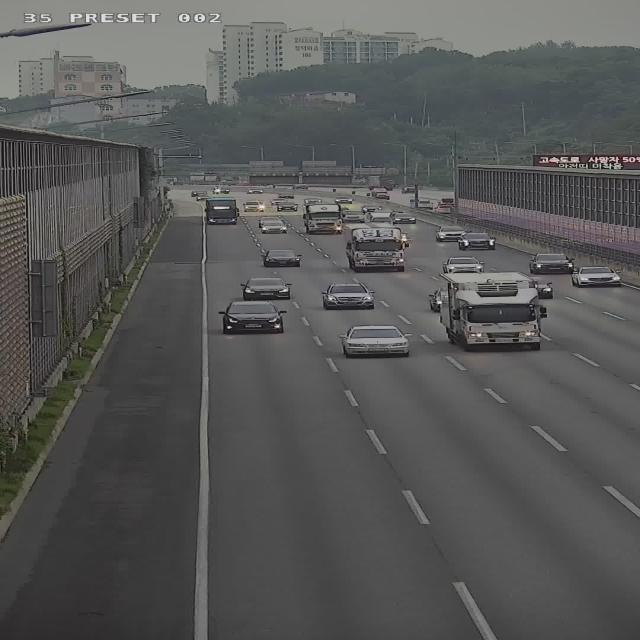Car: (341, 325, 412, 357), (218, 302, 288, 333), (523, 251, 573, 281), (322, 284, 376, 310), (432, 251, 482, 279), (242, 277, 294, 300), (572, 267, 622, 287), (428, 223, 473, 245), (248, 214, 284, 235), (261, 250, 303, 267), (459, 233, 497, 250), (241, 199, 270, 213), (396, 208, 418, 224), (275, 201, 300, 213), (431, 203, 454, 214), (360, 201, 384, 211), (330, 194, 356, 203), (209, 186, 232, 196), (240, 186, 268, 194), (275, 190, 297, 199), (415, 198, 434, 208), (436, 196, 455, 206), (302, 196, 322, 204), (369, 186, 389, 194), (400, 186, 419, 194), (268, 198, 289, 205), (189, 188, 204, 197), (372, 193, 391, 200), (195, 194, 210, 202), (408, 197, 418, 206)
Truck: (440, 273, 541, 350), (344, 225, 410, 272), (304, 204, 343, 235), (206, 198, 241, 225), (363, 208, 397, 228), (338, 202, 366, 222)
